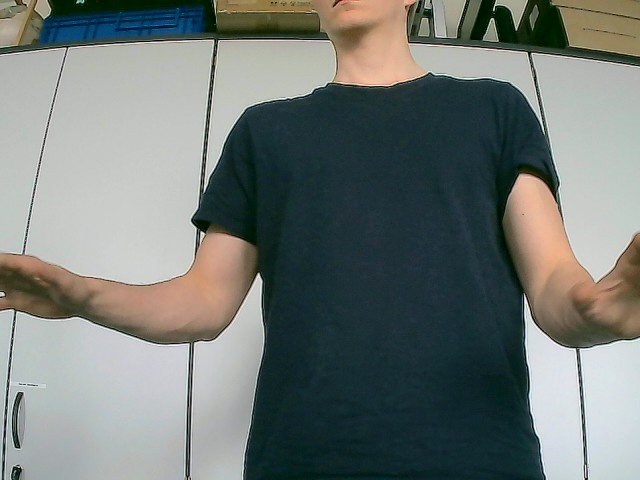no_gesture: (0, 251, 89, 321)
